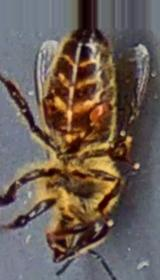varroa_mite: (35, 94, 59, 124), (86, 98, 112, 123)
